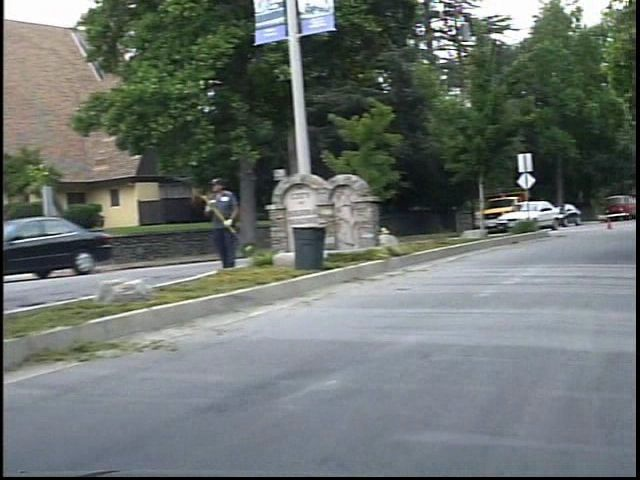person: (214, 173, 255, 273)
